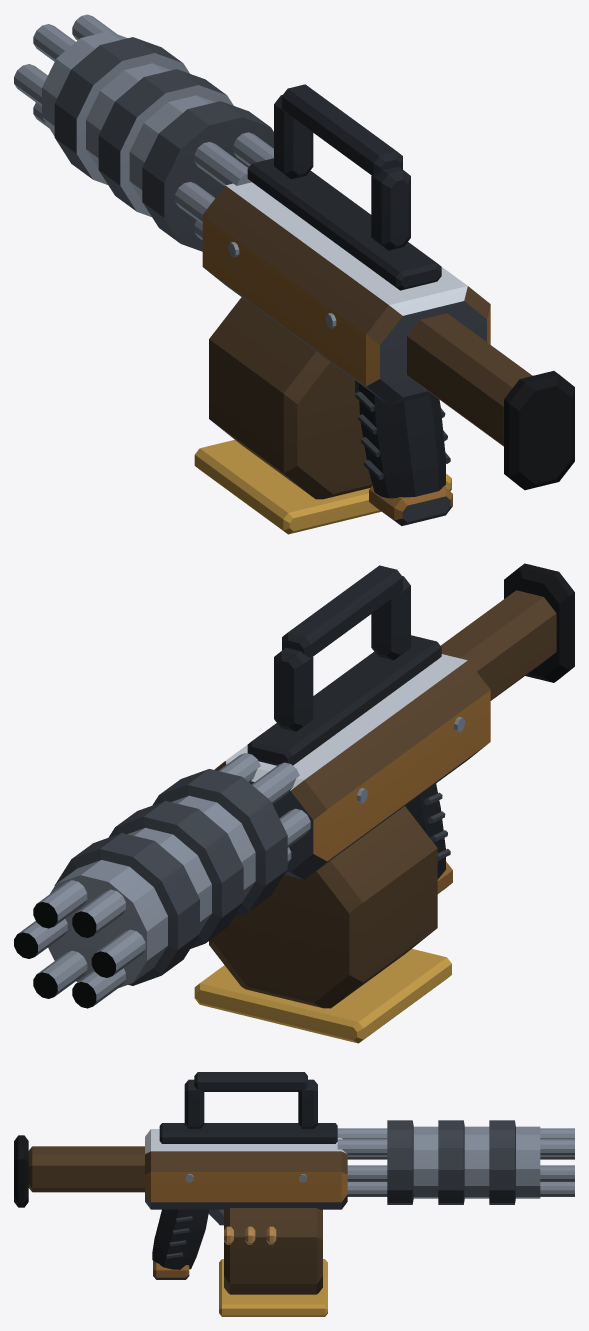
Rendered from RifleMinigun.fbx.
3 renders of one model, top to bottom at view 1: azimuth 30°, elevation 25°; view 2: azimuth 150°, elevation 25°; view 3: azimuth 270°, elevation 25°, orthographic. The views are drawn at different scales.
Visible parts, largest first — view 1: Receiver, BarrelBands, FeedBox, Stock, TopRail, ButtPad, FeedBoxLid, Grip, CarryHandle, HandleRear, Barrel2, HandleFront (+4 smaller); view 2: BarrelBands, FeedBox, Receiver, FeedBoxLid, TopRail, Stock, CarryHandle, ButtPad, HandleFront, Barrel2, Barrel3, HandleRear (+5 smaller); view 3: Receiver, BarrelBands, FeedBox, Stock, TopRail, FeedBoxLid, Grip, CarryHandle, Barrel1, Barrel0, Barrel5, ButtPad (+4 smaller).
Part boxes in pixels (x1,y1,x2,y2): Receiver: (202, 182, 490, 404); BarrelBands: (42, 31, 273, 251); FeedBox: (209, 297, 372, 499); Stock: (407, 313, 532, 446); TopRail: (247, 158, 441, 290); ButtPad: (504, 371, 574, 490); FeedBoxLid: (194, 439, 451, 534); Grip: (358, 383, 445, 498); CarryHandle: (282, 84, 402, 176); HandleRear: (371, 166, 410, 250); Barrel2: (33, 24, 251, 186); HandleFront: (274, 95, 313, 179); BarrelBands: (48, 769, 287, 987); FeedBox: (209, 806, 437, 1008); Receiver: (214, 654, 490, 879); FeedBoxLid: (194, 949, 451, 1043); TopRail: (247, 635, 441, 765); Stock: (441, 590, 556, 700); CarryHandle: (282, 565, 402, 657); ButtPad: (504, 563, 574, 682); HandleFront: (274, 647, 313, 731); Barrel2: (72, 762, 299, 937); Barrel3: (91, 808, 310, 977); HandleRear: (371, 576, 410, 660); Receiver: (145, 1129, 347, 1209); BarrelBands: (387, 1120, 540, 1204); FeedBox: (224, 1208, 322, 1294); Stock: (28, 1146, 144, 1192); TopRail: (159, 1123, 337, 1143); FeedBoxLid: (219, 1259, 327, 1316); Grip: (152, 1209, 209, 1269); CarryHandle: (194, 1072, 307, 1091); Barrel1: (337, 1139, 574, 1155); Barrel0: (347, 1165, 574, 1181); Barrel5: (347, 1182, 574, 1196); ButtPad: (14, 1135, 28, 1207).
Bounding box in the file's own units: 0.2575 × 0.4905 × 1.13.
1 material, 1 textured.
